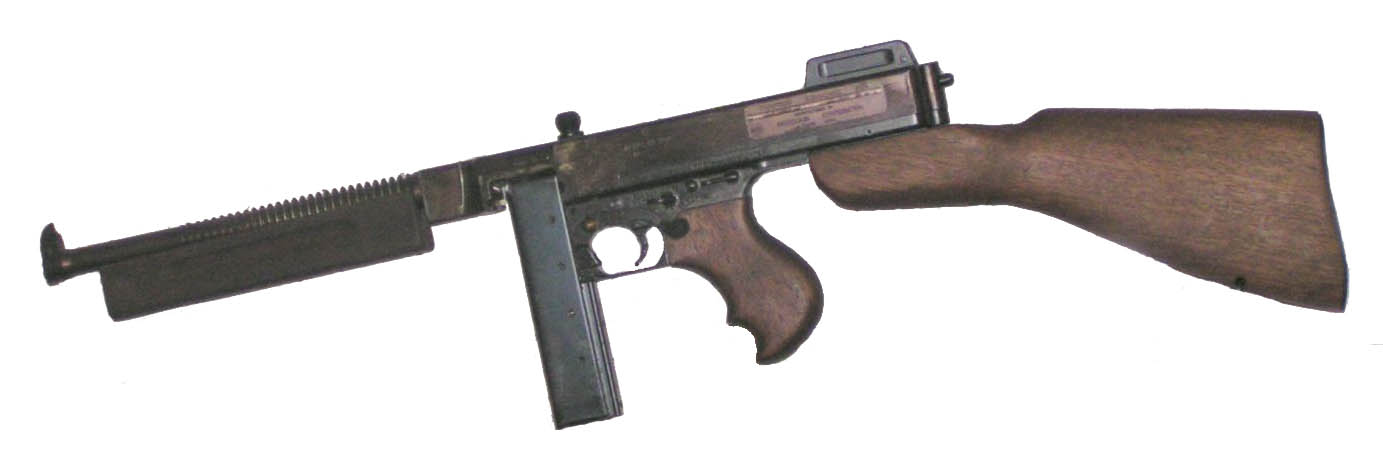rifle: (49, 46, 1336, 410)
